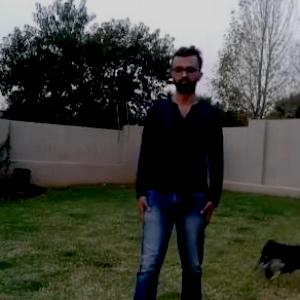follow: (134, 44, 225, 299)
